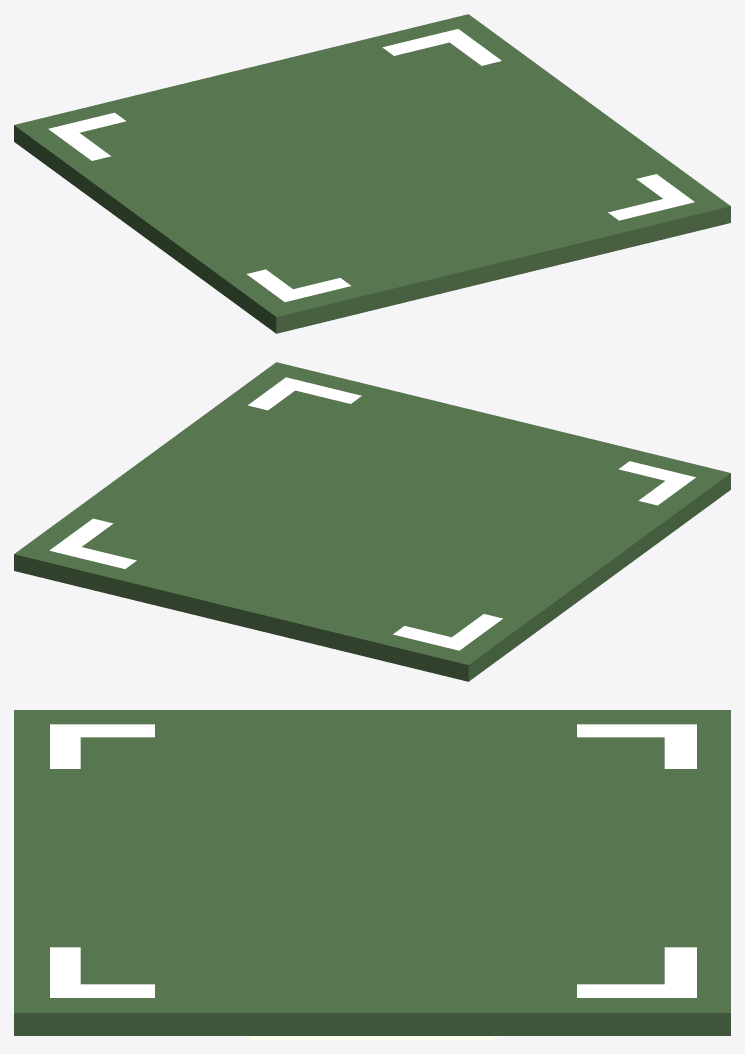
File: savePlatform.fbx
3 renders of one model, top to bottom at view 1: azimuth 30°, elevation 25°; view 2: azimuth 150°, elevation 25°; view 3: azimuth 270°, elevation 25°, orthographic. The views are drawn at different scales.
Parts seen in each view (by area): view 1: Cube; view 2: Cube; view 3: Cube, Cube.001.
Boxes of the visible parts, bbox=[...] form: Cube: bbox=[14, 14, 730, 333]; Cube: bbox=[14, 362, 730, 681]; Cube: bbox=[14, 710, 730, 1035]; Cube.001: bbox=[246, 1036, 498, 1039].
Size of the model in its own units: 600 by 118 by 600.
